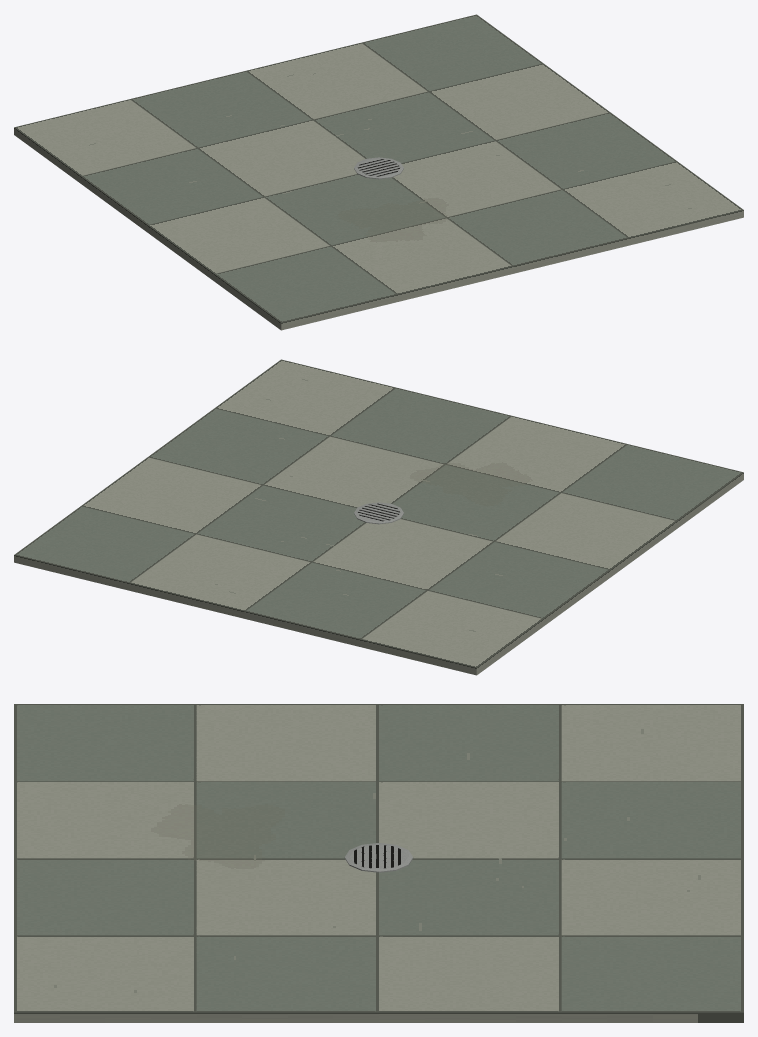
Rendered from floor_2b.glb.
3 views of the same model, one above another, from view 1: azimuth 30°, elevation 25°; view 2: azimuth 150°, elevation 25°; view 3: azimuth 270°, elevation 25° (orthographic). The views are drawn at different scales.
Visible parts, largest first — view 1: floor_tiles, floor_edge, floor_drain; view 2: floor_tiles, floor_edge, floor_drain; view 3: floor_tiles, floor_edge, floor_drain.
Boxes of the visible parts, <box> form: floor_tiles: <box>14,14,743,322</box>; floor_edge: <box>14,127,743,330</box>; floor_drain: <box>354,157,403,179</box>; floor_tiles: <box>14,359,743,667</box>; floor_edge: <box>14,472,743,675</box>; floor_drain: <box>354,502,403,524</box>; floor_tiles: <box>14,704,743,1012</box>; floor_edge: <box>14,1012,743,1022</box>; floor_drain: <box>344,843,413,872</box>.
Size of the model in its own units: 2 by 0.0356 by 2.
Materials: 1 (1 with a texture image).
